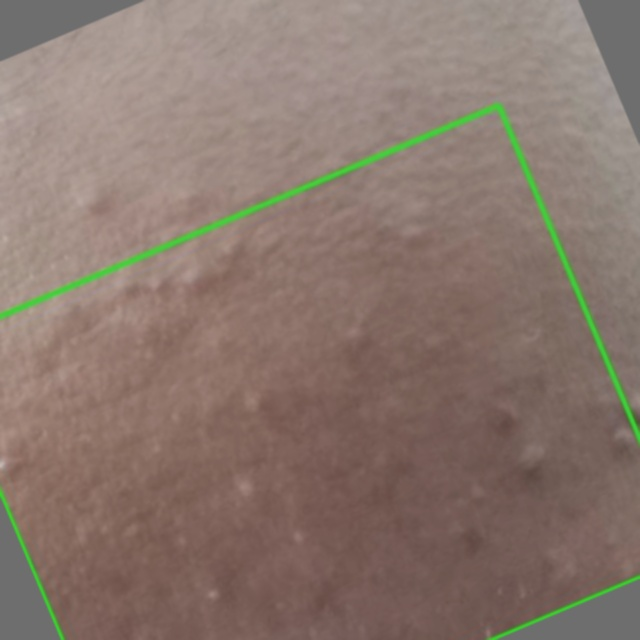Eczema: (0, 105, 639, 639)
